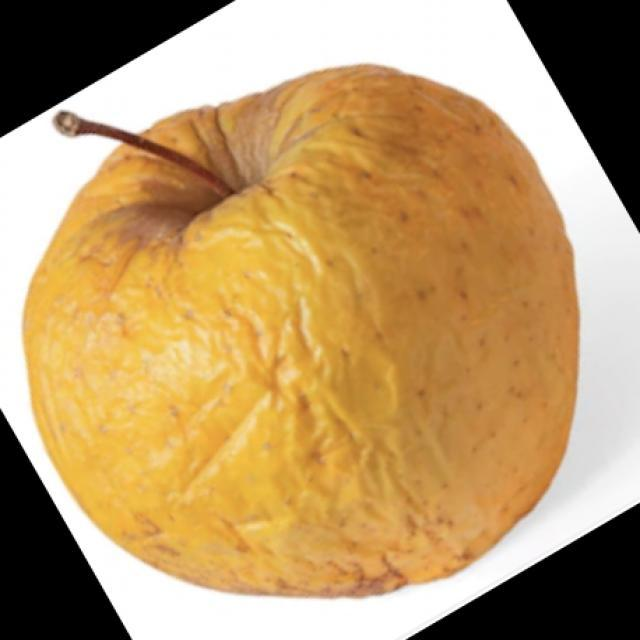Rotten: (18, 72, 565, 593)
